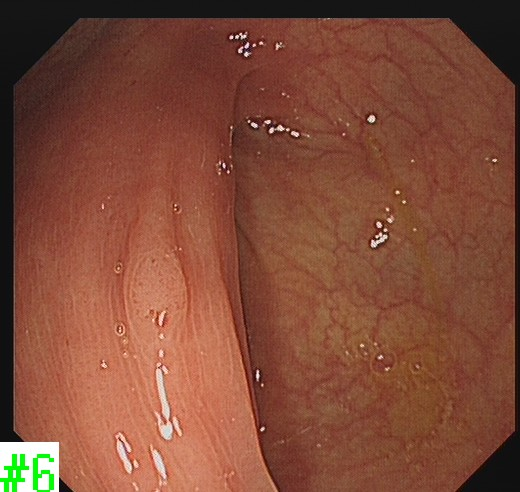adenoma: (120, 244, 191, 350)
